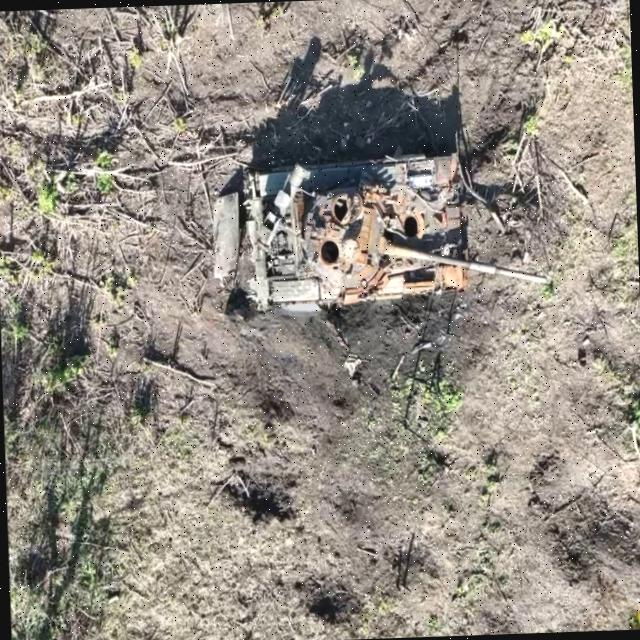Destroyed: (211, 137, 550, 316)
